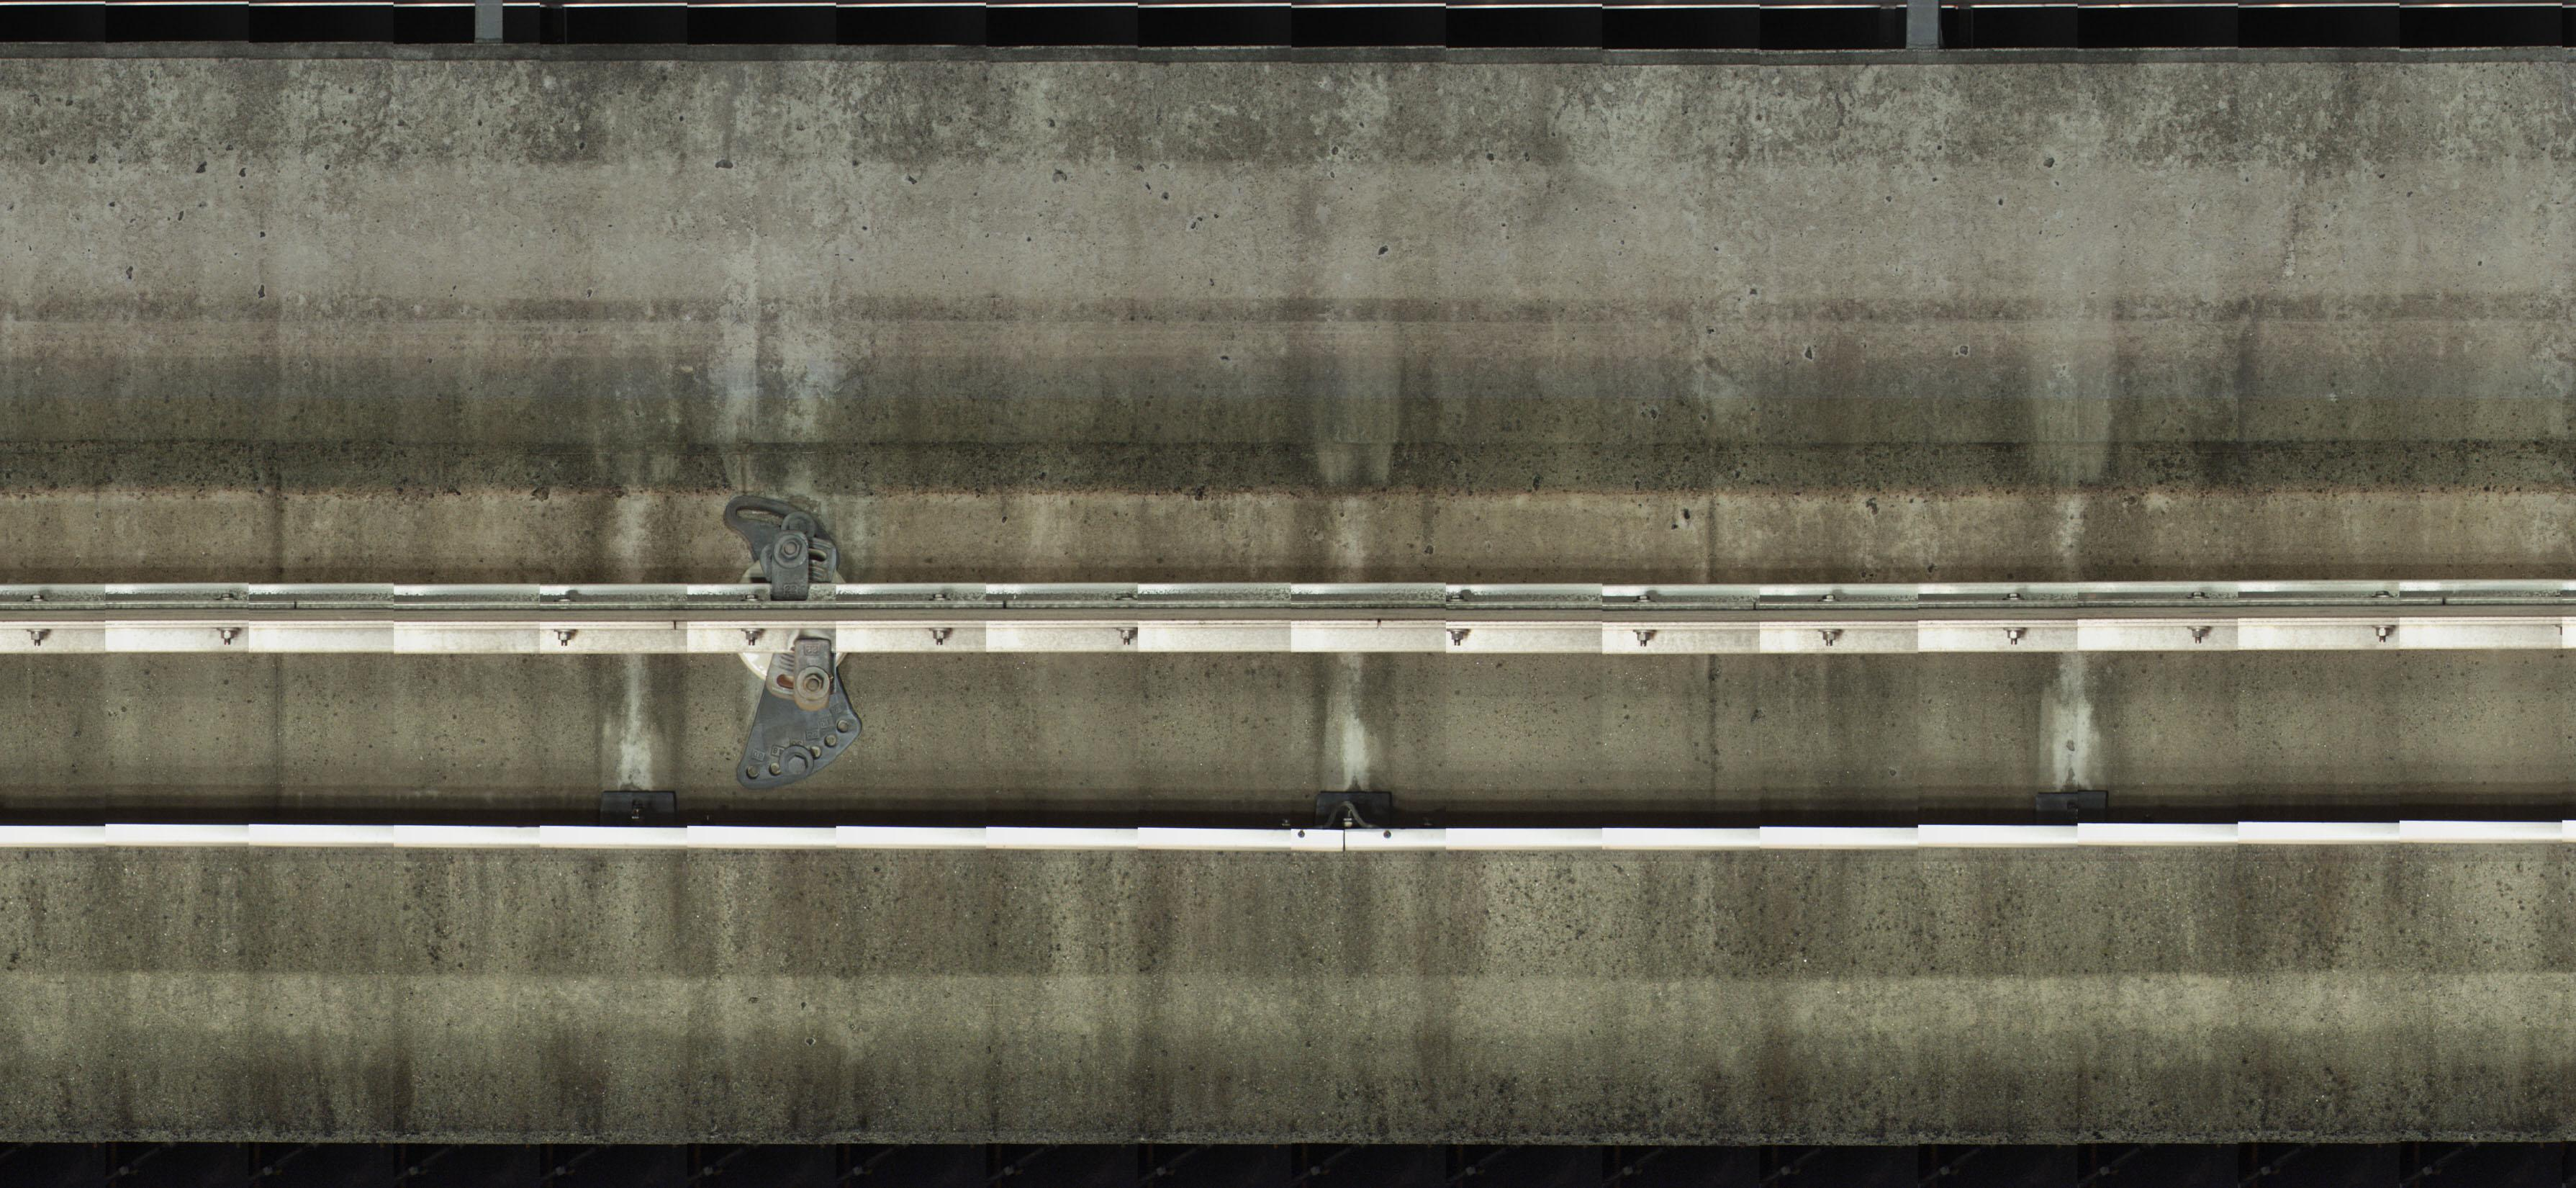concrete: (2, 46, 2576, 590), (0, 654, 2576, 1139)
